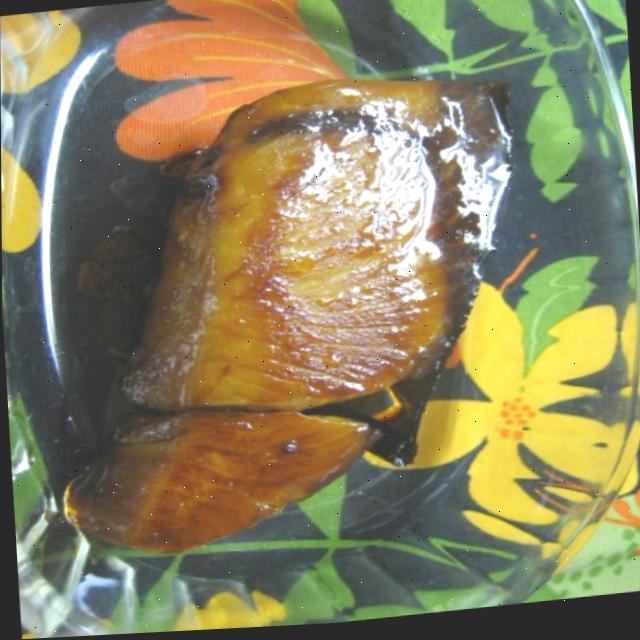熟制海鲜: (68, 70, 496, 580)
